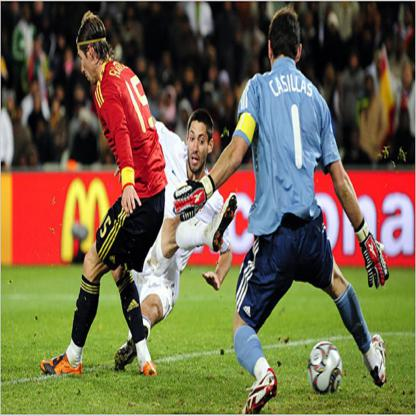face: (189, 121, 209, 173), (78, 43, 95, 85)
